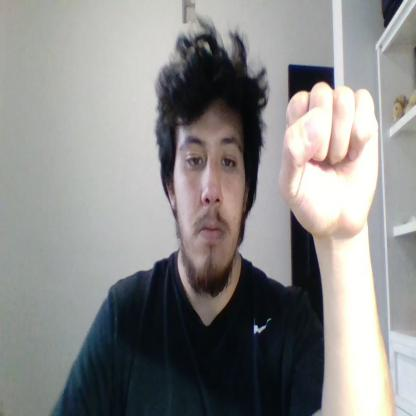S: (281, 80, 379, 236)
